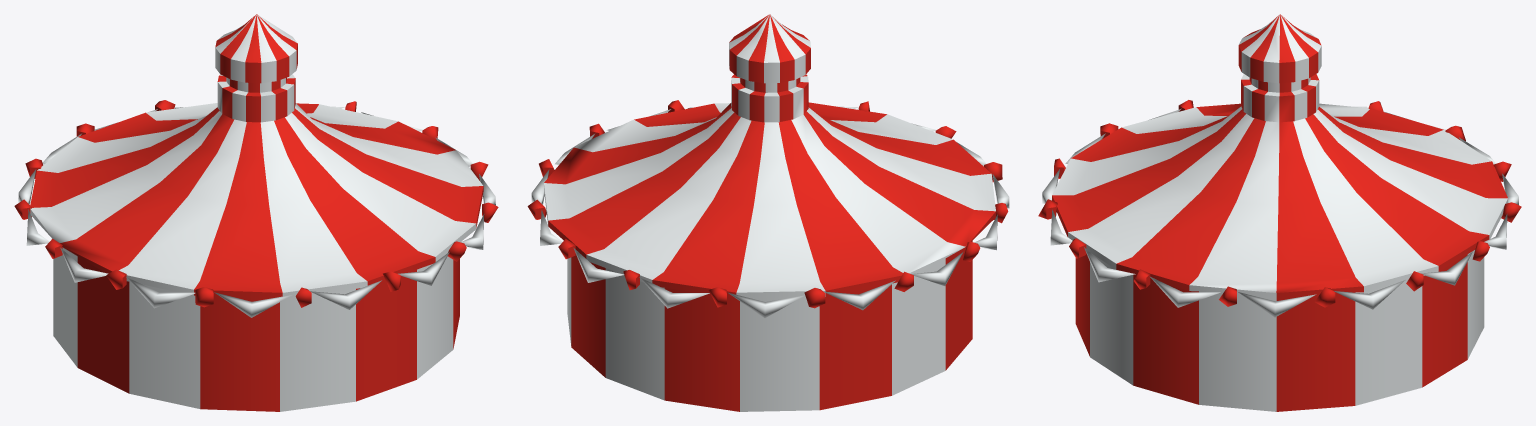
Rendered from Carnivaltent.glb.
3 views of the same model, side by side, from view 1: azimuth 30°, elevation 25°; view 2: azimuth 150°, elevation 25°; view 3: azimuth 270°, elevation 25° (orthographic).
Parts seen in each view (by area): view 1: Tent; view 2: Tent; view 3: Tent.
Boxes of the visible parts, bbox=[...] form: Tent: bbox=[14, 14, 498, 411]; Tent: bbox=[527, 14, 1009, 411]; Tent: bbox=[1038, 14, 1521, 411].
Size of the model in its own units: 2.87 by 2.04 by 2.87.
1 material, 1 textured.
